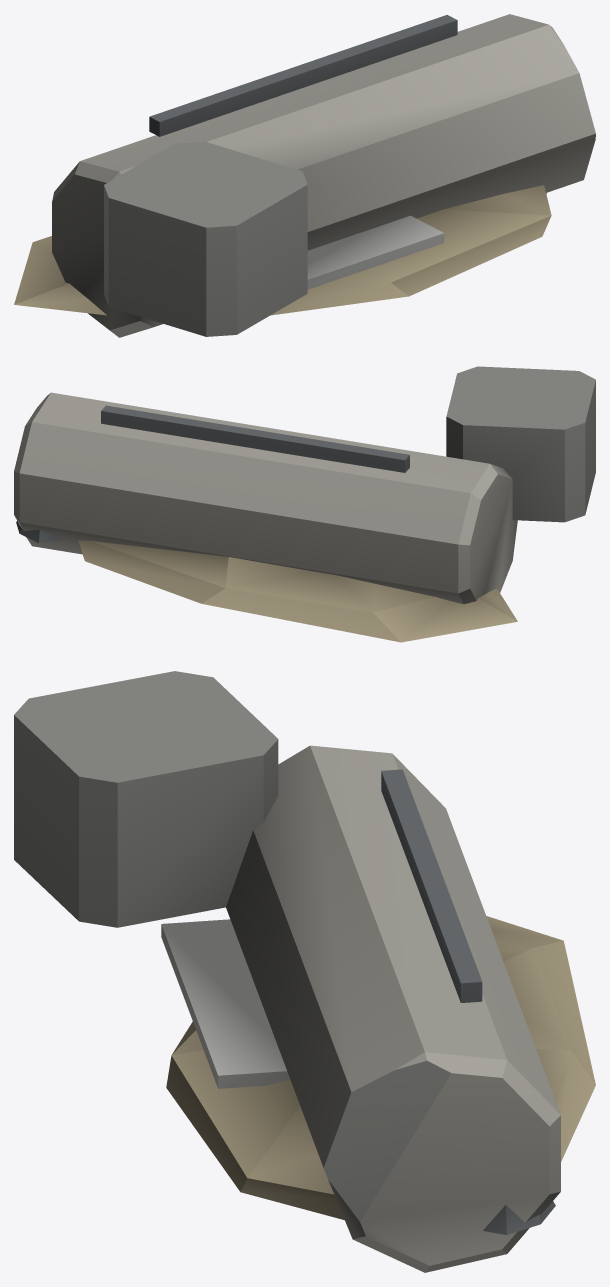
File: ruin_column_c.glb
The picture shows the model from 3 angles, top to bottom: view 1: azimuth 30°, elevation 25°; view 2: azimuth 150°, elevation 25°; view 3: azimuth 270°, elevation 25°; orthographic projection. The views are drawn at different scales.
Parts seen in each view (by area): view 1: body; view 2: body; view 3: body.
Part boxes in pixels (x1=…): body: x1=14, y1=14, x2=595, y2=337; body: x1=14, y1=366, x2=595, y2=642; body: x1=14, y1=671, x2=595, y2=1272.
Size of the model in its own units: 1.18 by 0.3874 by 0.8001.
